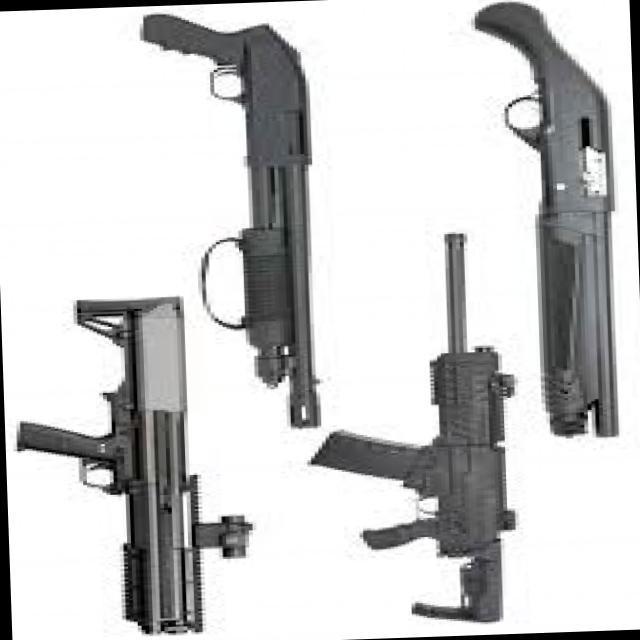long weapon: (316, 225, 545, 634), (122, 9, 337, 438), (4, 282, 250, 640), (443, 5, 638, 449)
